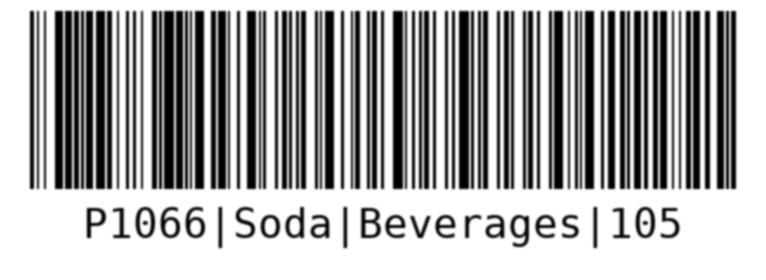milk: (17, 5, 751, 256)
